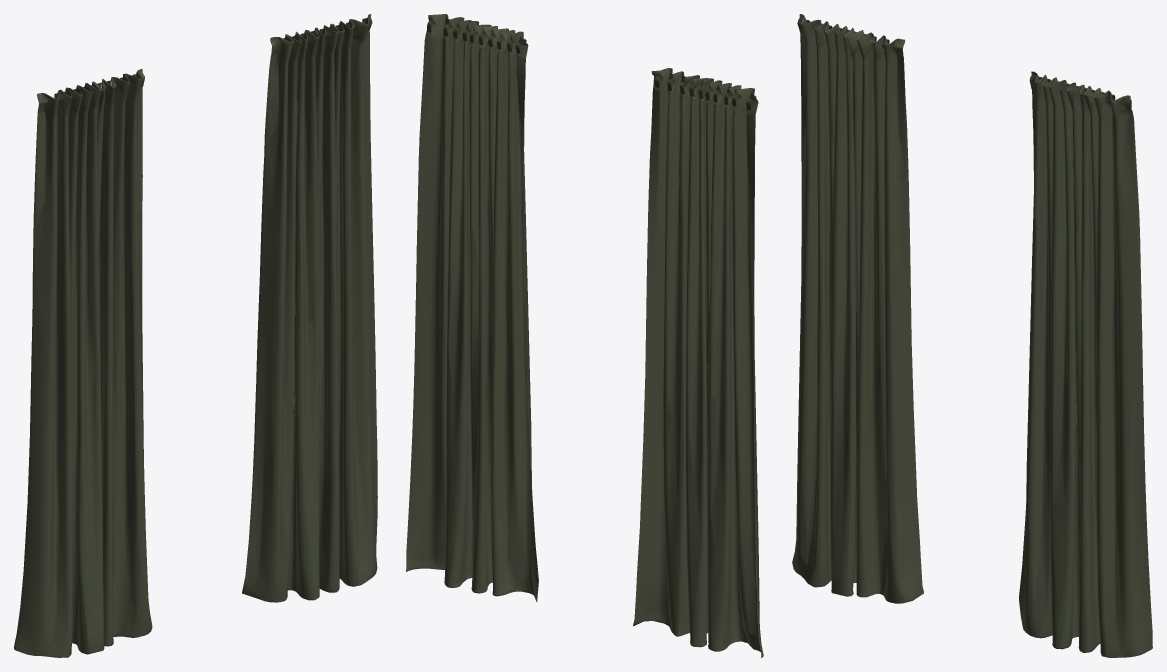
3 views of the same model, side by side, from view 1: azimuth 30°, elevation 25°; view 2: azimuth 150°, elevation 25°; view 3: azimuth 330°, elevation 25° (orthographic).
Parts seen in each view (by area): view 1: ASY_LPT01_30586033_S02_NV01; view 2: ASY_LPT01_30586033_S02_NV01; view 3: ASY_LPT01_30586033_S02_NV01.
Part boxes in pixels (x1,y1,x2,y2): ASY_LPT01_30586033_S02_NV01: (14, 14, 377, 657); ASY_LPT01_30586033_S02_NV01: (406, 14, 763, 657); ASY_LPT01_30586033_S02_NV01: (792, 14, 1152, 657).
Size of the model in its own units: 1.7 by 2.54 by 0.1715.
2 materials, 2 textured.
